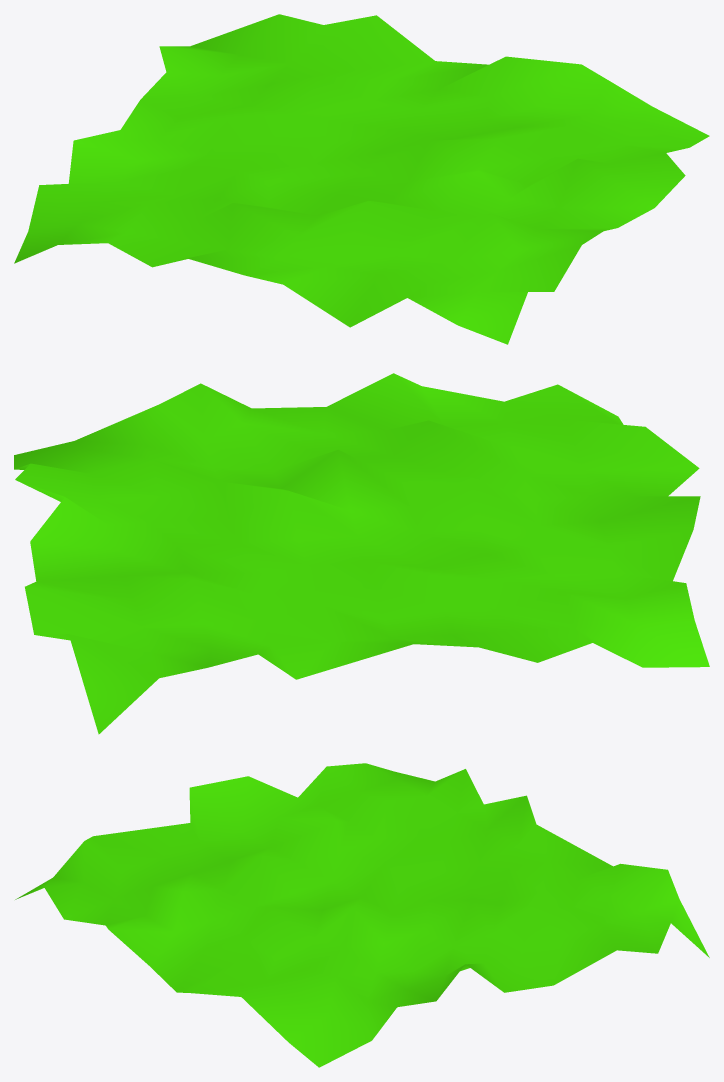
The model's file is Lechuga.glb.
3 renders of one model, top to bottom at view 1: azimuth 30°, elevation 25°; view 2: azimuth 150°, elevation 25°; view 3: azimuth 270°, elevation 25°, orthographic. The views are drawn at different scales.
Parts seen in each view (by area): view 1: Plane.003; view 2: Plane.003; view 3: Plane.003.
Boxes of the visible parts, x1,y1,x2,y2 form: Plane.003: [14, 14, 709, 344]; Plane.003: [14, 373, 709, 734]; Plane.003: [15, 763, 709, 1067].
Bounding box in the file's own units: 8.33 × 0.8871 × 8.33.
